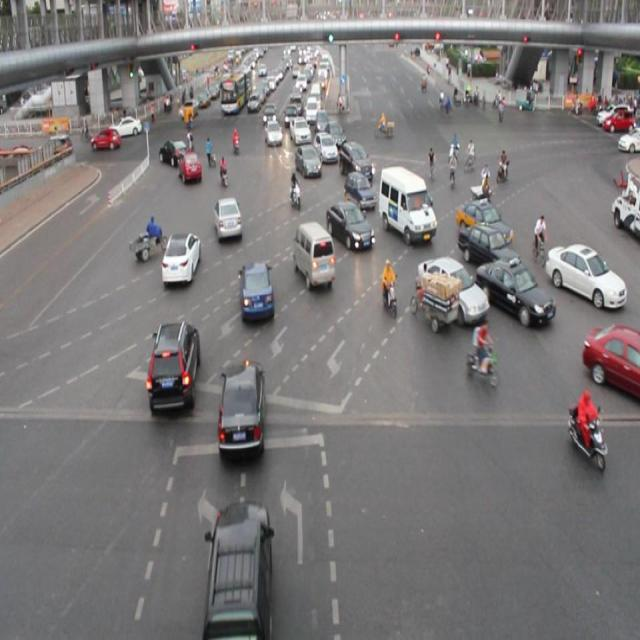car: (203, 502, 275, 640), (551, 235, 625, 318), (480, 252, 554, 334), (143, 321, 200, 419), (213, 356, 266, 459), (379, 161, 438, 249), (578, 322, 640, 395), (422, 261, 487, 313), (294, 225, 334, 293), (329, 196, 375, 254), (160, 232, 201, 292), (240, 257, 276, 318), (213, 194, 244, 246), (177, 149, 203, 190), (297, 137, 322, 179), (603, 108, 634, 137), (92, 127, 122, 155), (265, 115, 283, 150), (290, 112, 309, 142)
